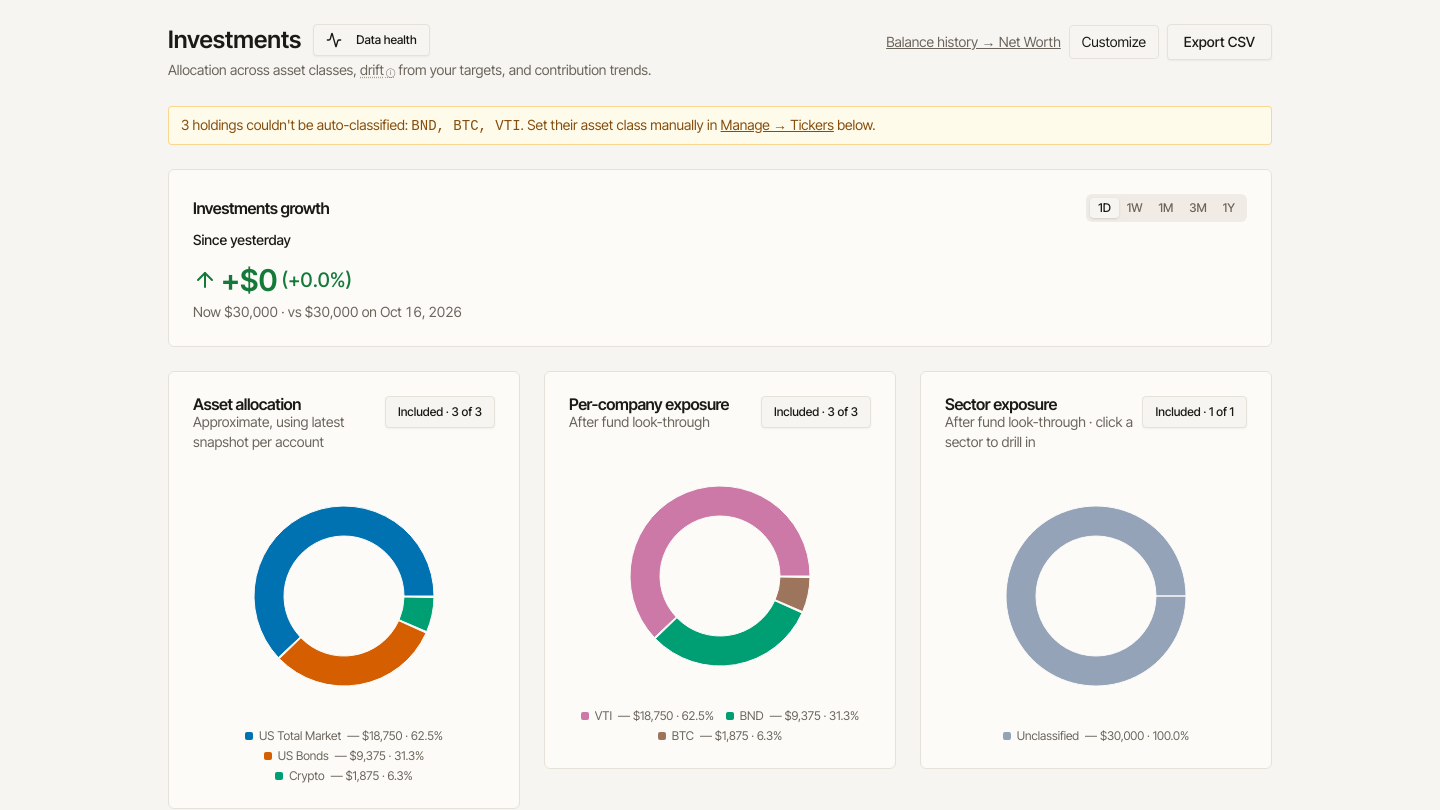
Test: Investments page — 529 section › asset allocation donut — entity picker › hiding an asset class removes its slice from the legend
Expected: the text titled "US Bonds" is shown, 278,748 -> 329,764
Expected: the text titled "Crypto" is shown, 289,768 -> 325,784
Step 1. Click the button "Included · 3 of 3" in the row of "Asset allocation" → click(440, 412), box 385,396 -> 495,428
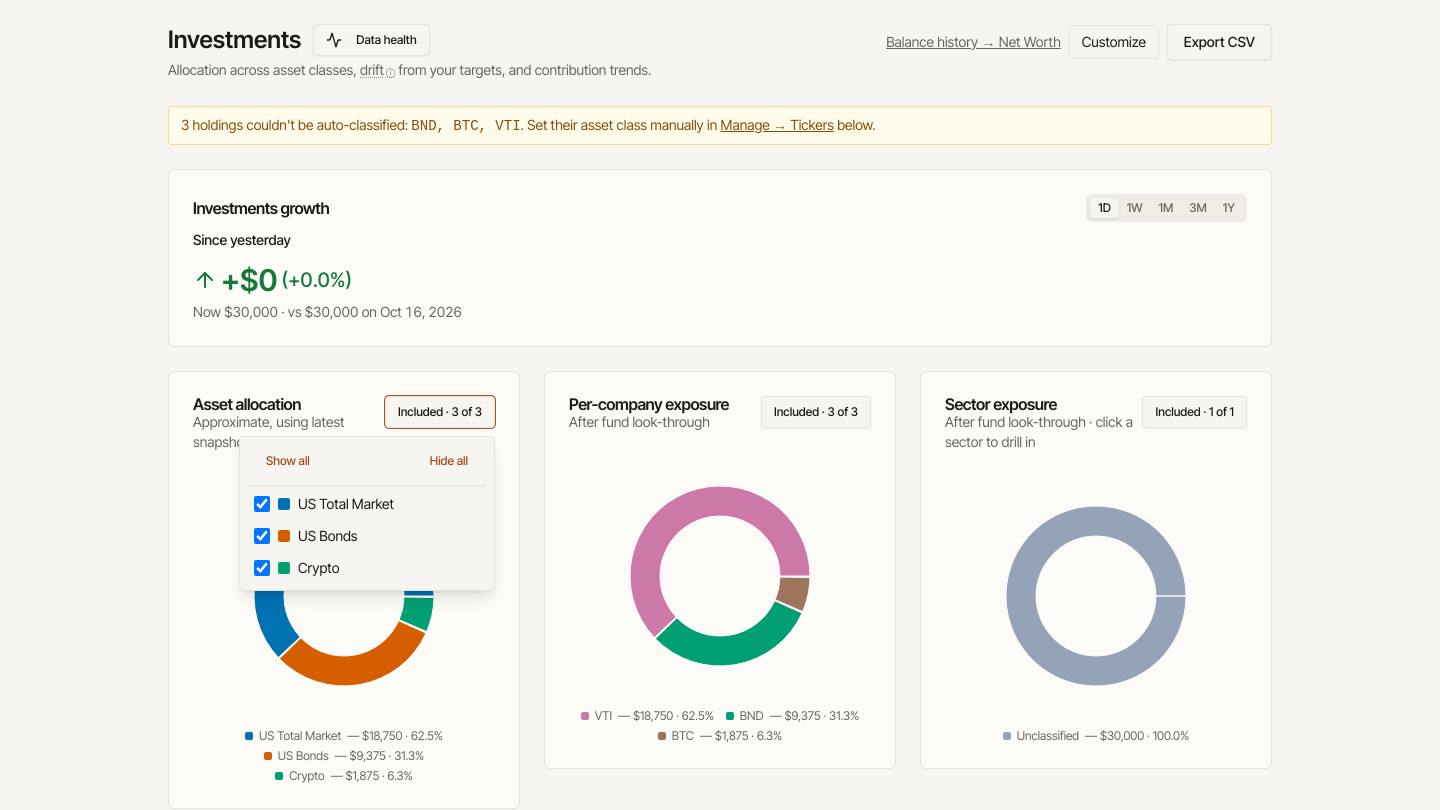
Step 2. Click the checkbox labelled "US Bonds" → click(262, 536), box 254,528 -> 270,544
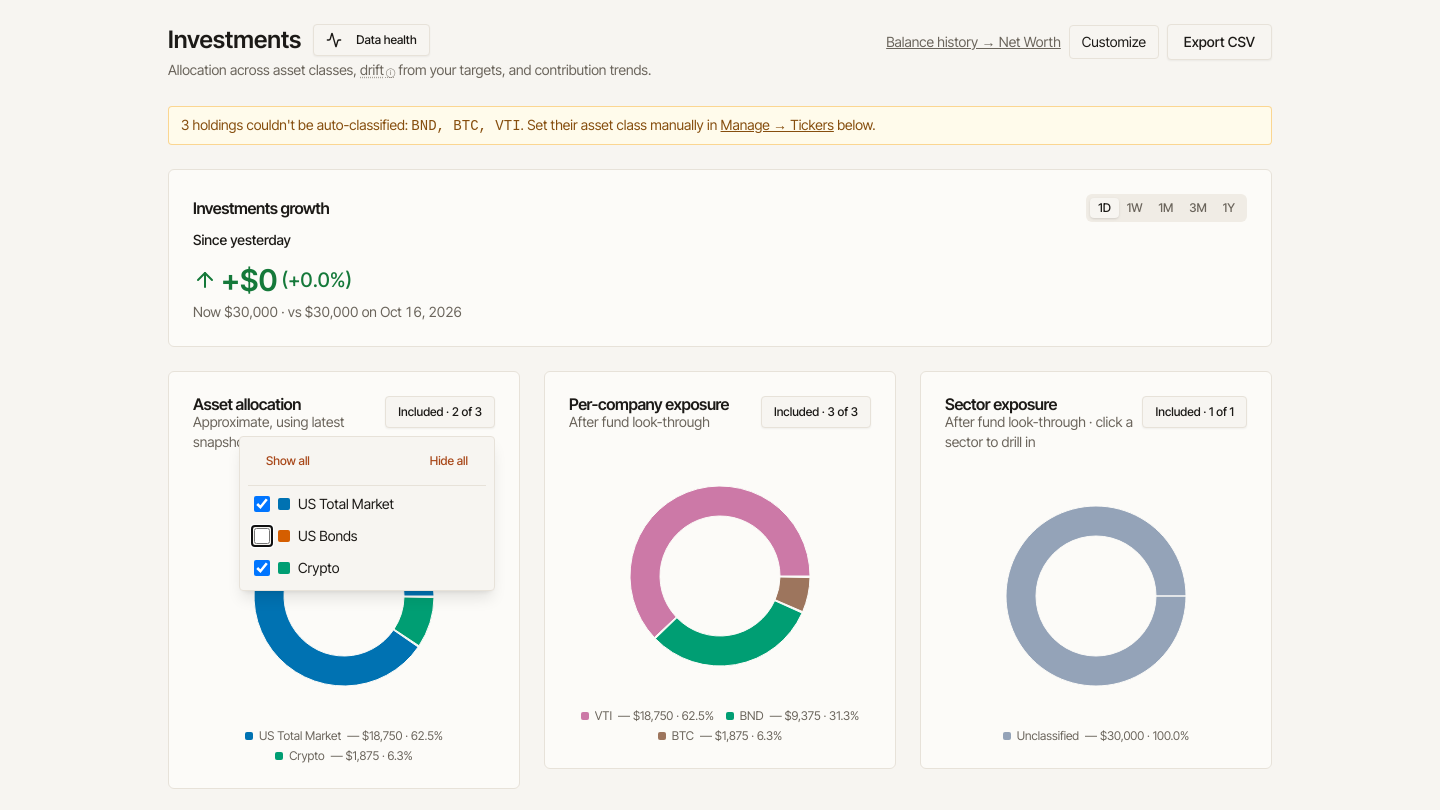
Expected: the text titled "Crypto" is shown, 289,748 -> 325,764
Now the button "Included · 2 of 3" is shown, box 385,396 -> 495,428
